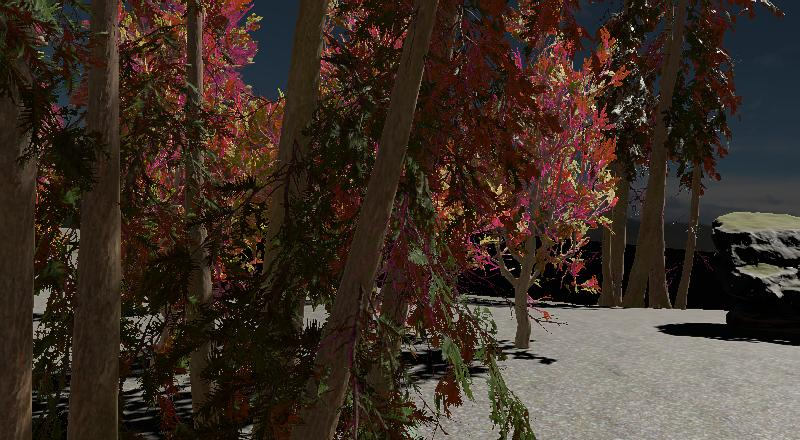Tank: (444, 221, 583, 299)
